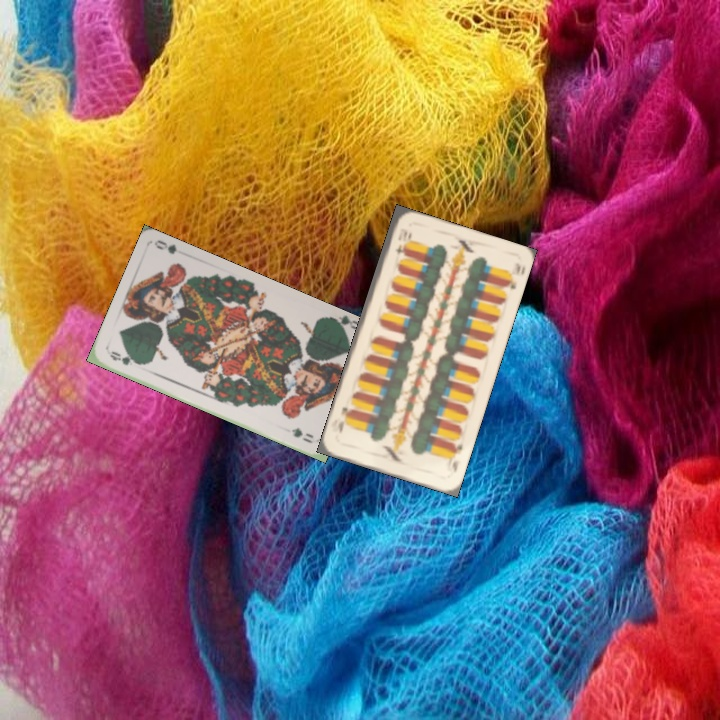E10: (445, 439, 465, 475), (391, 224, 410, 258)
GO: (325, 312, 364, 335), (106, 347, 145, 368)
